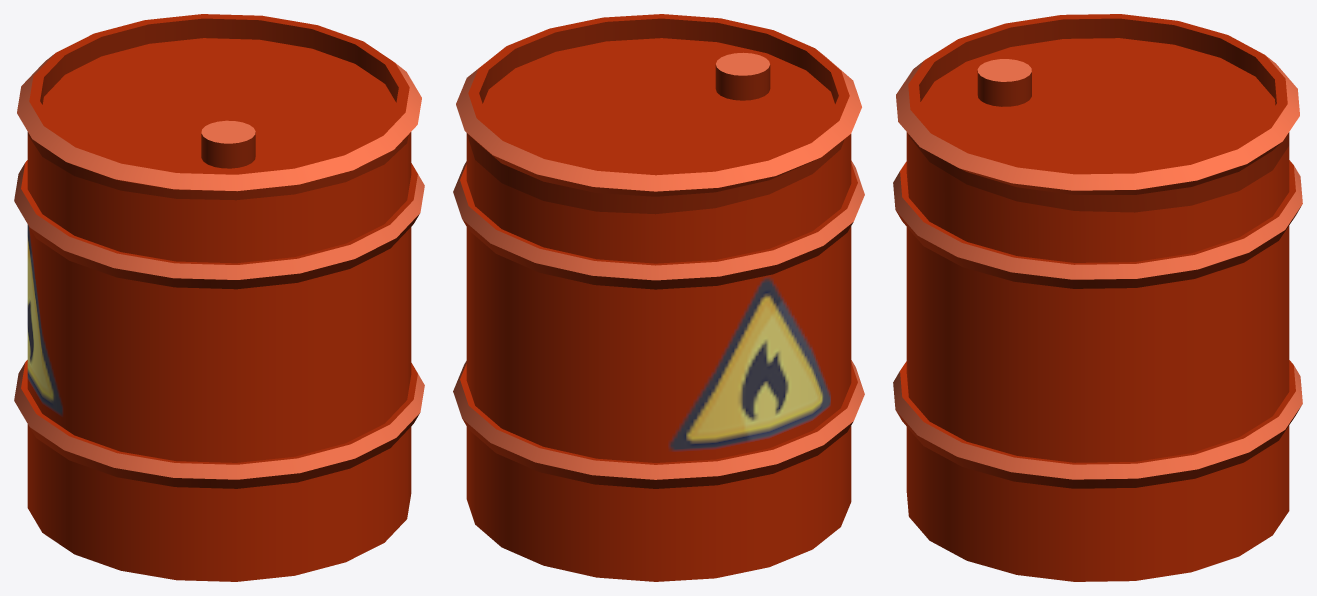
Rendered from Varil.fbx.
The picture shows the model from 3 angles, left to right: view 1: azimuth 30°, elevation 25°; view 2: azimuth 150°, elevation 25°; view 3: azimuth 270°, elevation 25°; orthographic projection.
Visible parts, largest first — view 1: Varil; view 2: Varil; view 3: Varil.
Boxes of the visible parts, x1,y1,x2,y2 form: Varil: [14, 14, 424, 581]; Varil: [453, 14, 864, 581]; Varil: [893, 14, 1302, 581].
Bounding box in the file's own units: 154 × 171 × 154.
